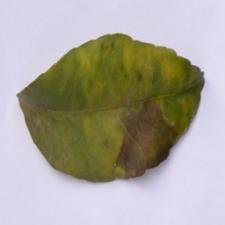Black: (98, 90, 200, 198)
